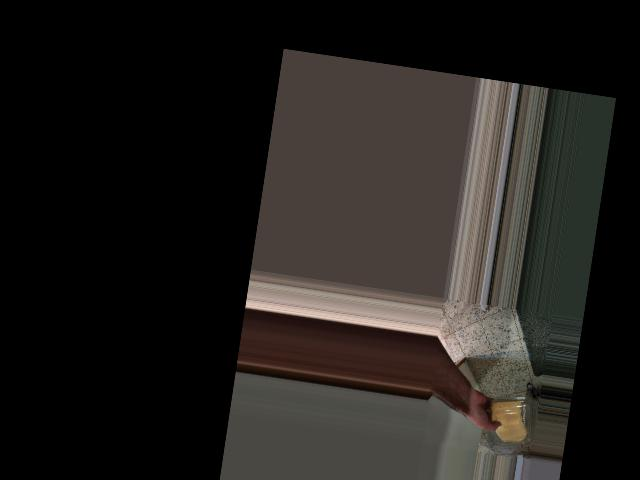cheese: (483, 392, 535, 447)
